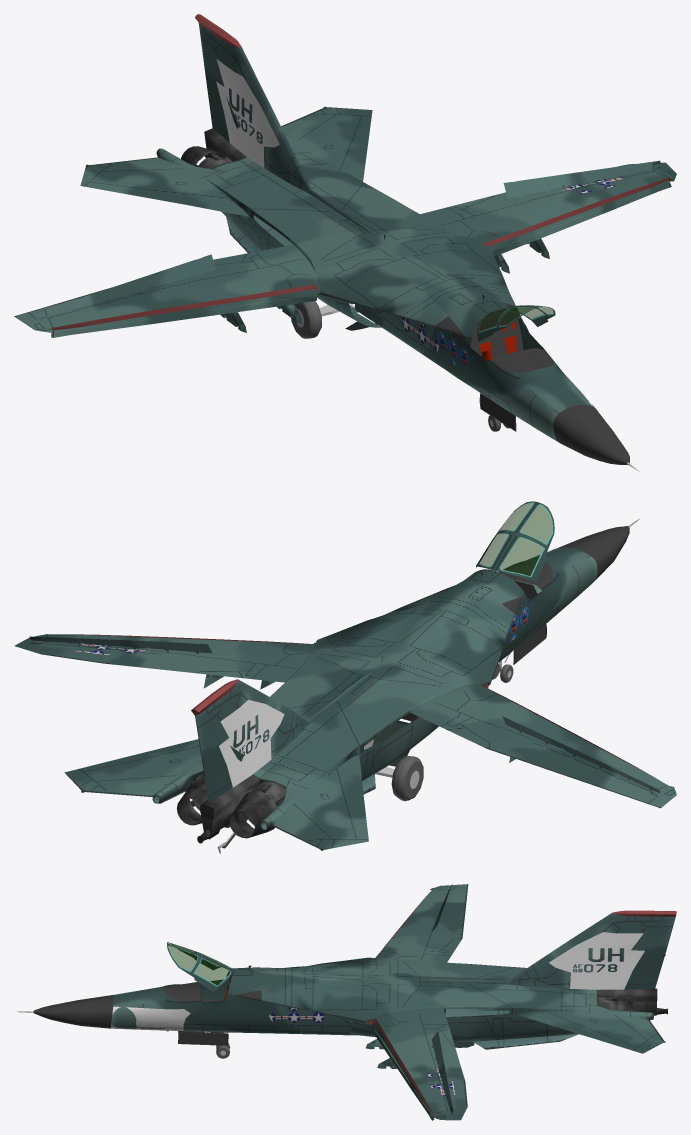
The model's file is Airplane F111.FBX.
The picture shows the model from 3 angles, top to bottom: view 1: azimuth 30°, elevation 25°; view 2: azimuth 150°, elevation 25°; view 3: azimuth 270°, elevation 25°; orthographic projection. The views are drawn at different scales.
Parts seen in each view (by area): view 1: F111top, F111down, F111blck, F111tail, F111uh_r, F111red, F111burn, F111gear, F111piz, F111star; view 2: F111top, F111down, F111tail, F111burn, F111blck, F111uh_r, F111gear, F111cpy1, F111red, F111gls3, F111gls1; view 3: F111top, F111down, F111tail, F111uh_l, F111blck, F111burn, F111deth, F111red, F111cpy1, F111star, F111gls4, F111gls2.
Part boxes in pixels (bbox=[...]): F111top: bbox=[14, 106, 676, 412]; F111down: bbox=[221, 202, 593, 442]; F111blck: bbox=[435, 302, 629, 464]; F111tail: bbox=[198, 23, 375, 235]; F111uh_r: bbox=[216, 58, 279, 167]; F111red: bbox=[52, 14, 673, 330]; F111burn: bbox=[181, 128, 245, 168]; F111gear: bbox=[291, 301, 509, 431]; F111piz: bbox=[220, 238, 549, 332]; F111star: bbox=[401, 176, 624, 353]; F111top: bbox=[14, 547, 676, 850]; F111down: bbox=[274, 555, 597, 794]; F111tail: bbox=[195, 671, 372, 802]; F111burn: bbox=[176, 774, 285, 843]; F111blck: bbox=[222, 526, 629, 848]; F111uh_r: bbox=[219, 699, 284, 787]; F111gear: bbox=[391, 663, 513, 801]; F111cpy1: bbox=[476, 501, 554, 581]; F111red: bbox=[77, 634, 647, 773]; F111gls3: bbox=[500, 538, 543, 575]; F111gls1: bbox=[520, 505, 552, 543]; F111top: bbox=[113, 884, 665, 1120]; F111down: bbox=[111, 974, 578, 1049]; F111tail: bbox=[411, 912, 675, 989]; F111uh_l: bbox=[549, 932, 644, 989]; F111blck: bbox=[33, 982, 581, 1045]; F111burn: bbox=[598, 988, 667, 1015]; F111deth: bbox=[111, 1006, 190, 1030]; F111red: bbox=[368, 888, 676, 1113]; F111cpy1: bbox=[167, 942, 232, 991]; F111star: bbox=[269, 1007, 455, 1095]; F111gls4: bbox=[195, 959, 229, 985]; F111gls2: bbox=[169, 946, 197, 970].
Size of the model in its own units: 9443 by 2712 by 11209.
